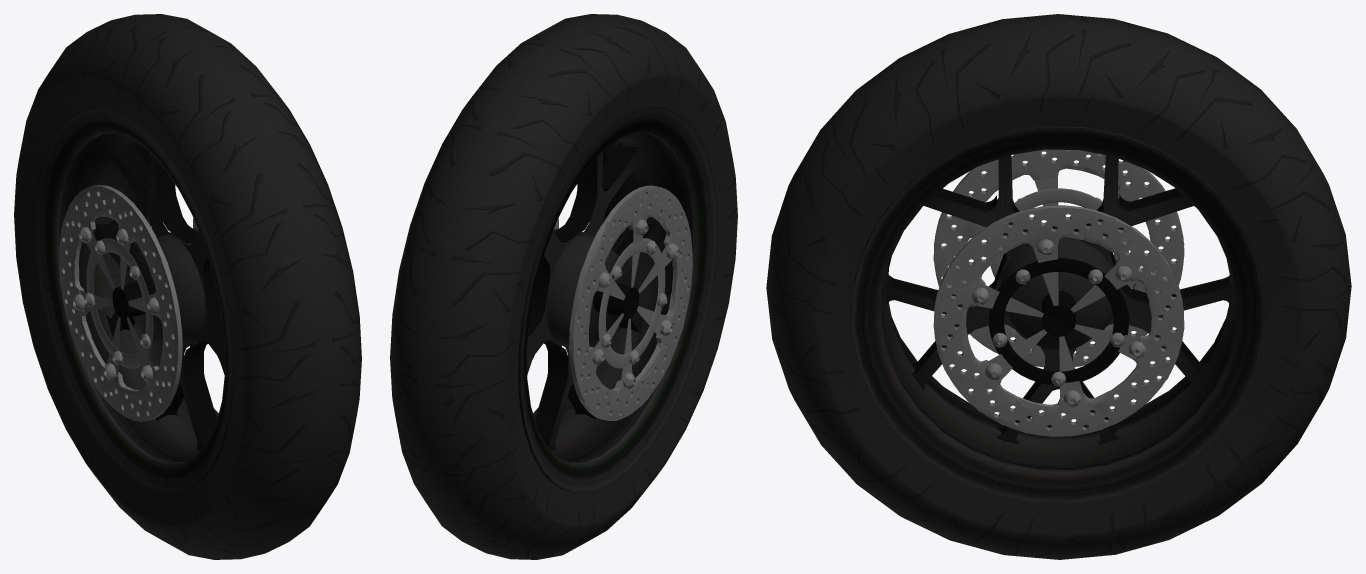
Rendered from Front Wheel .fbx.
3 views of the same model, side by side, from view 1: azimuth 30°, elevation 25°; view 2: azimuth 150°, elevation 25°; view 3: azimuth 270°, elevation 25° (orthographic). The views are drawn at different scales.
Visible parts, largest first — view 1: FrontWheel; view 2: FrontWheel; view 3: FrontWheel.
Part boxes in pixels (x1,y1,x2,y2): FrontWheel: (14,14,361,559); FrontWheel: (390,14,737,559); FrontWheel: (766,14,1351,559).
Size of the model in its own units: 33.48 by 105 by 105.
